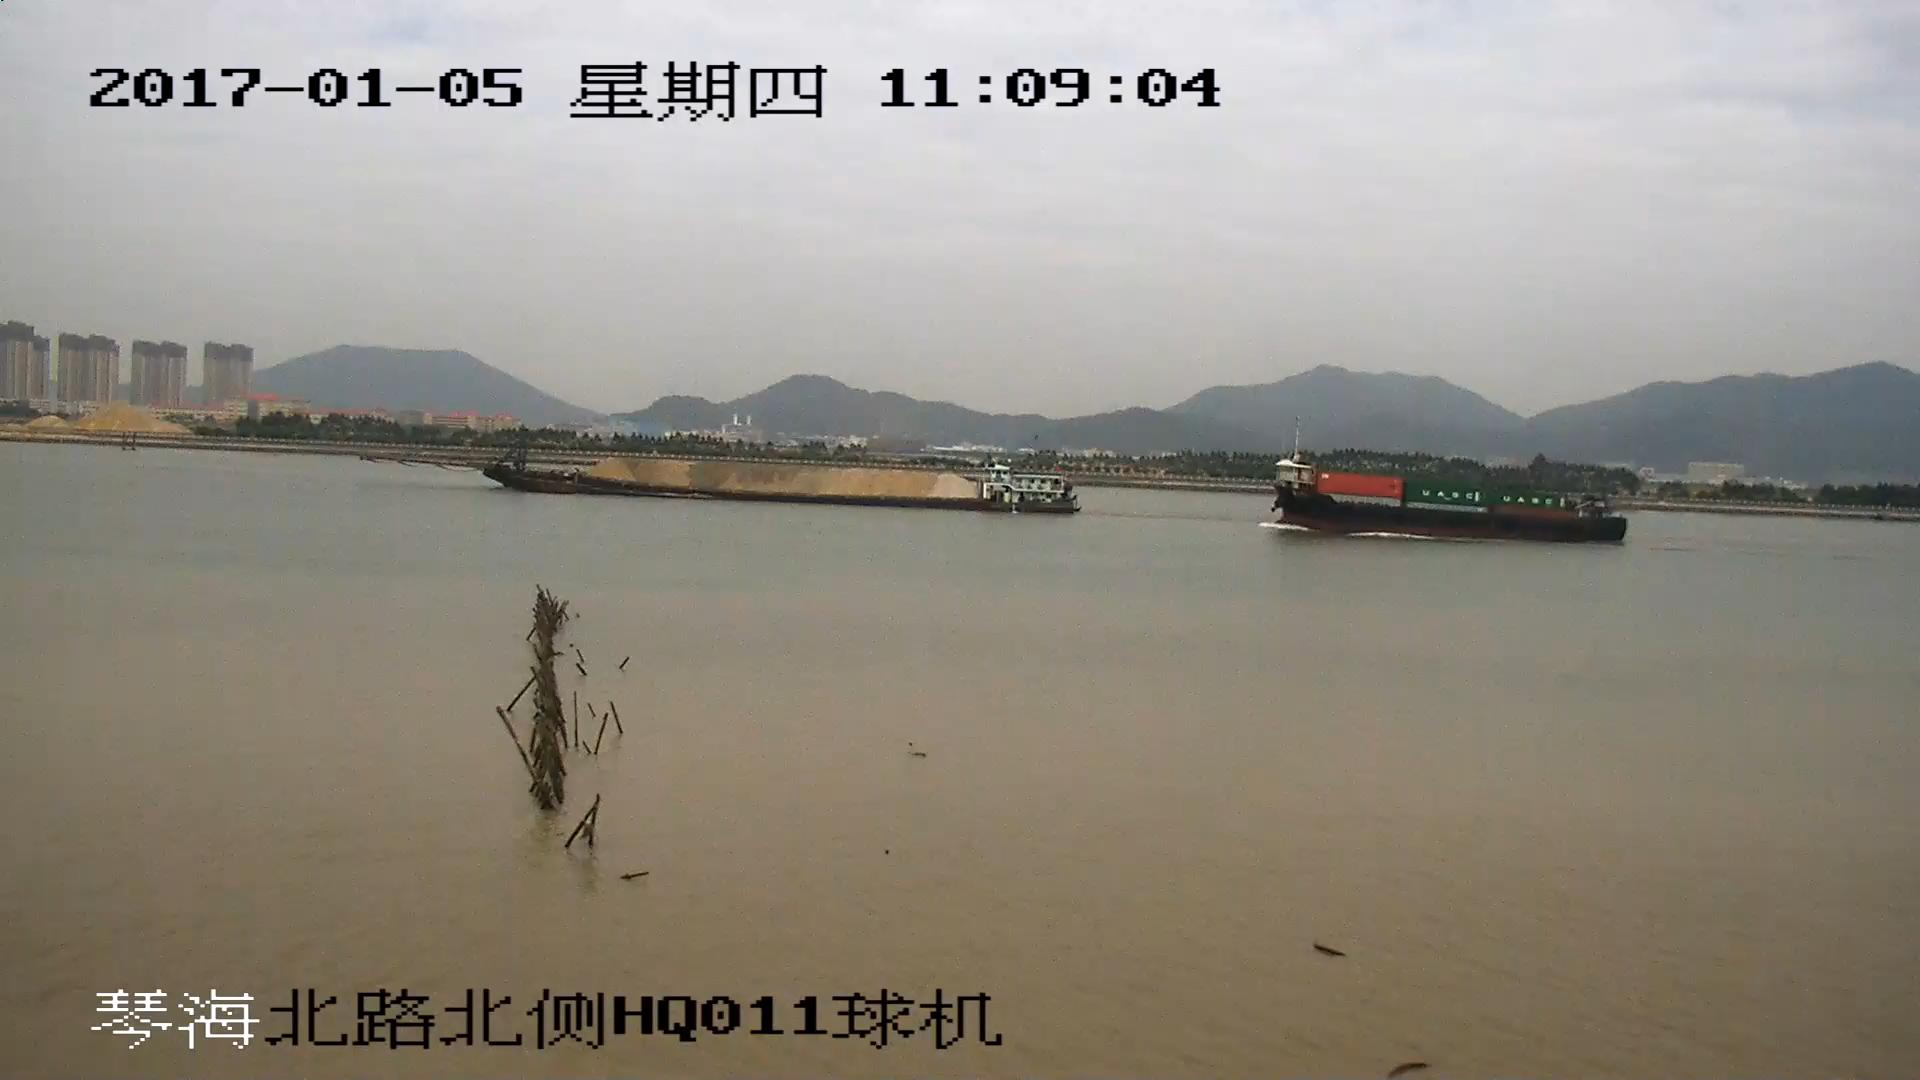container ship: (1269, 453, 1624, 537)
ore carrier: (377, 429, 1070, 516)
